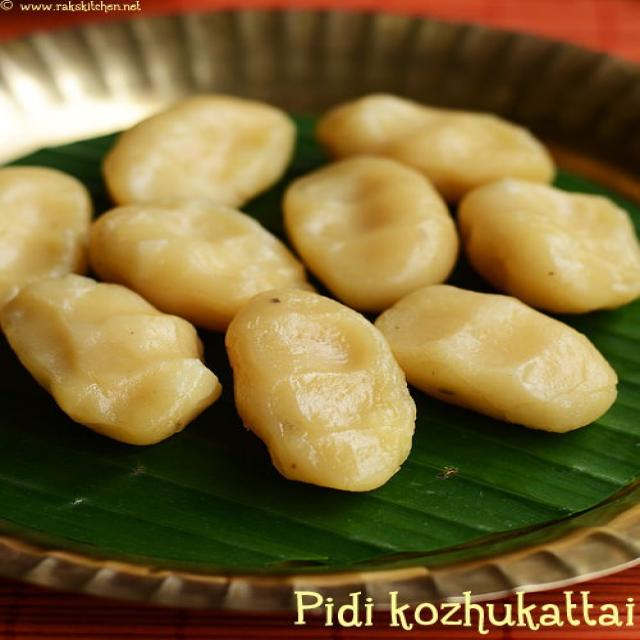pidi kolukattai: (8, 52, 640, 456)
